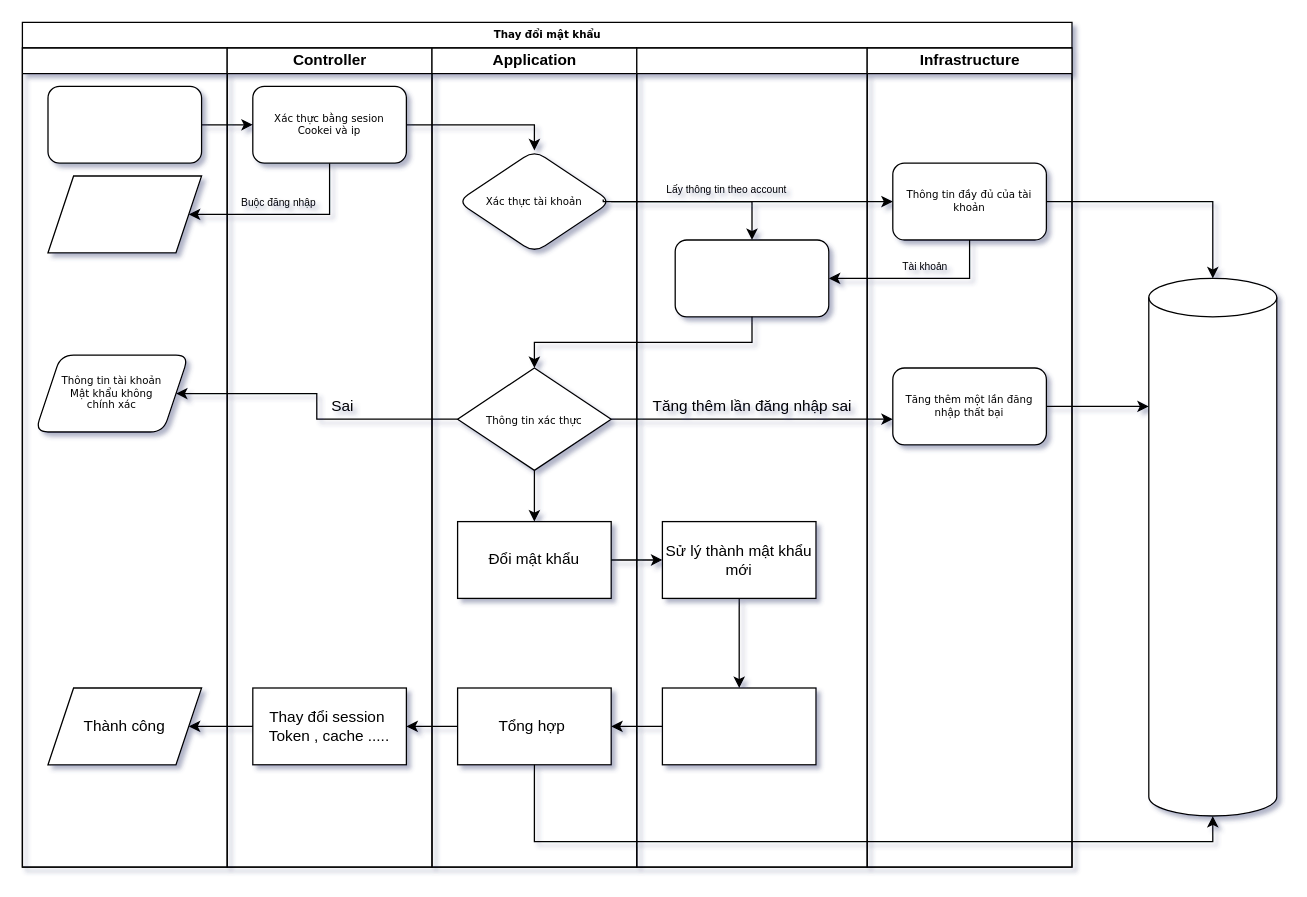
This 1307x897 diagram has some shape labels left out. Each missing label, with the box of its shape:
Bạn cần đăng nhập: (47, 175, 202, 253)
Client: (21, 47, 227, 867)
DataBase: (1148, 277, 1277, 816)
Domain: (636, 47, 867, 867)
Gửi link thông báo đến email: (661, 687, 816, 765)
Tài khoản Mật khẩu Email Mật khẩu mới: (47, 85, 202, 163)
xác thực thông tin ip token sesion tài khoản: (674, 239, 829, 317)
